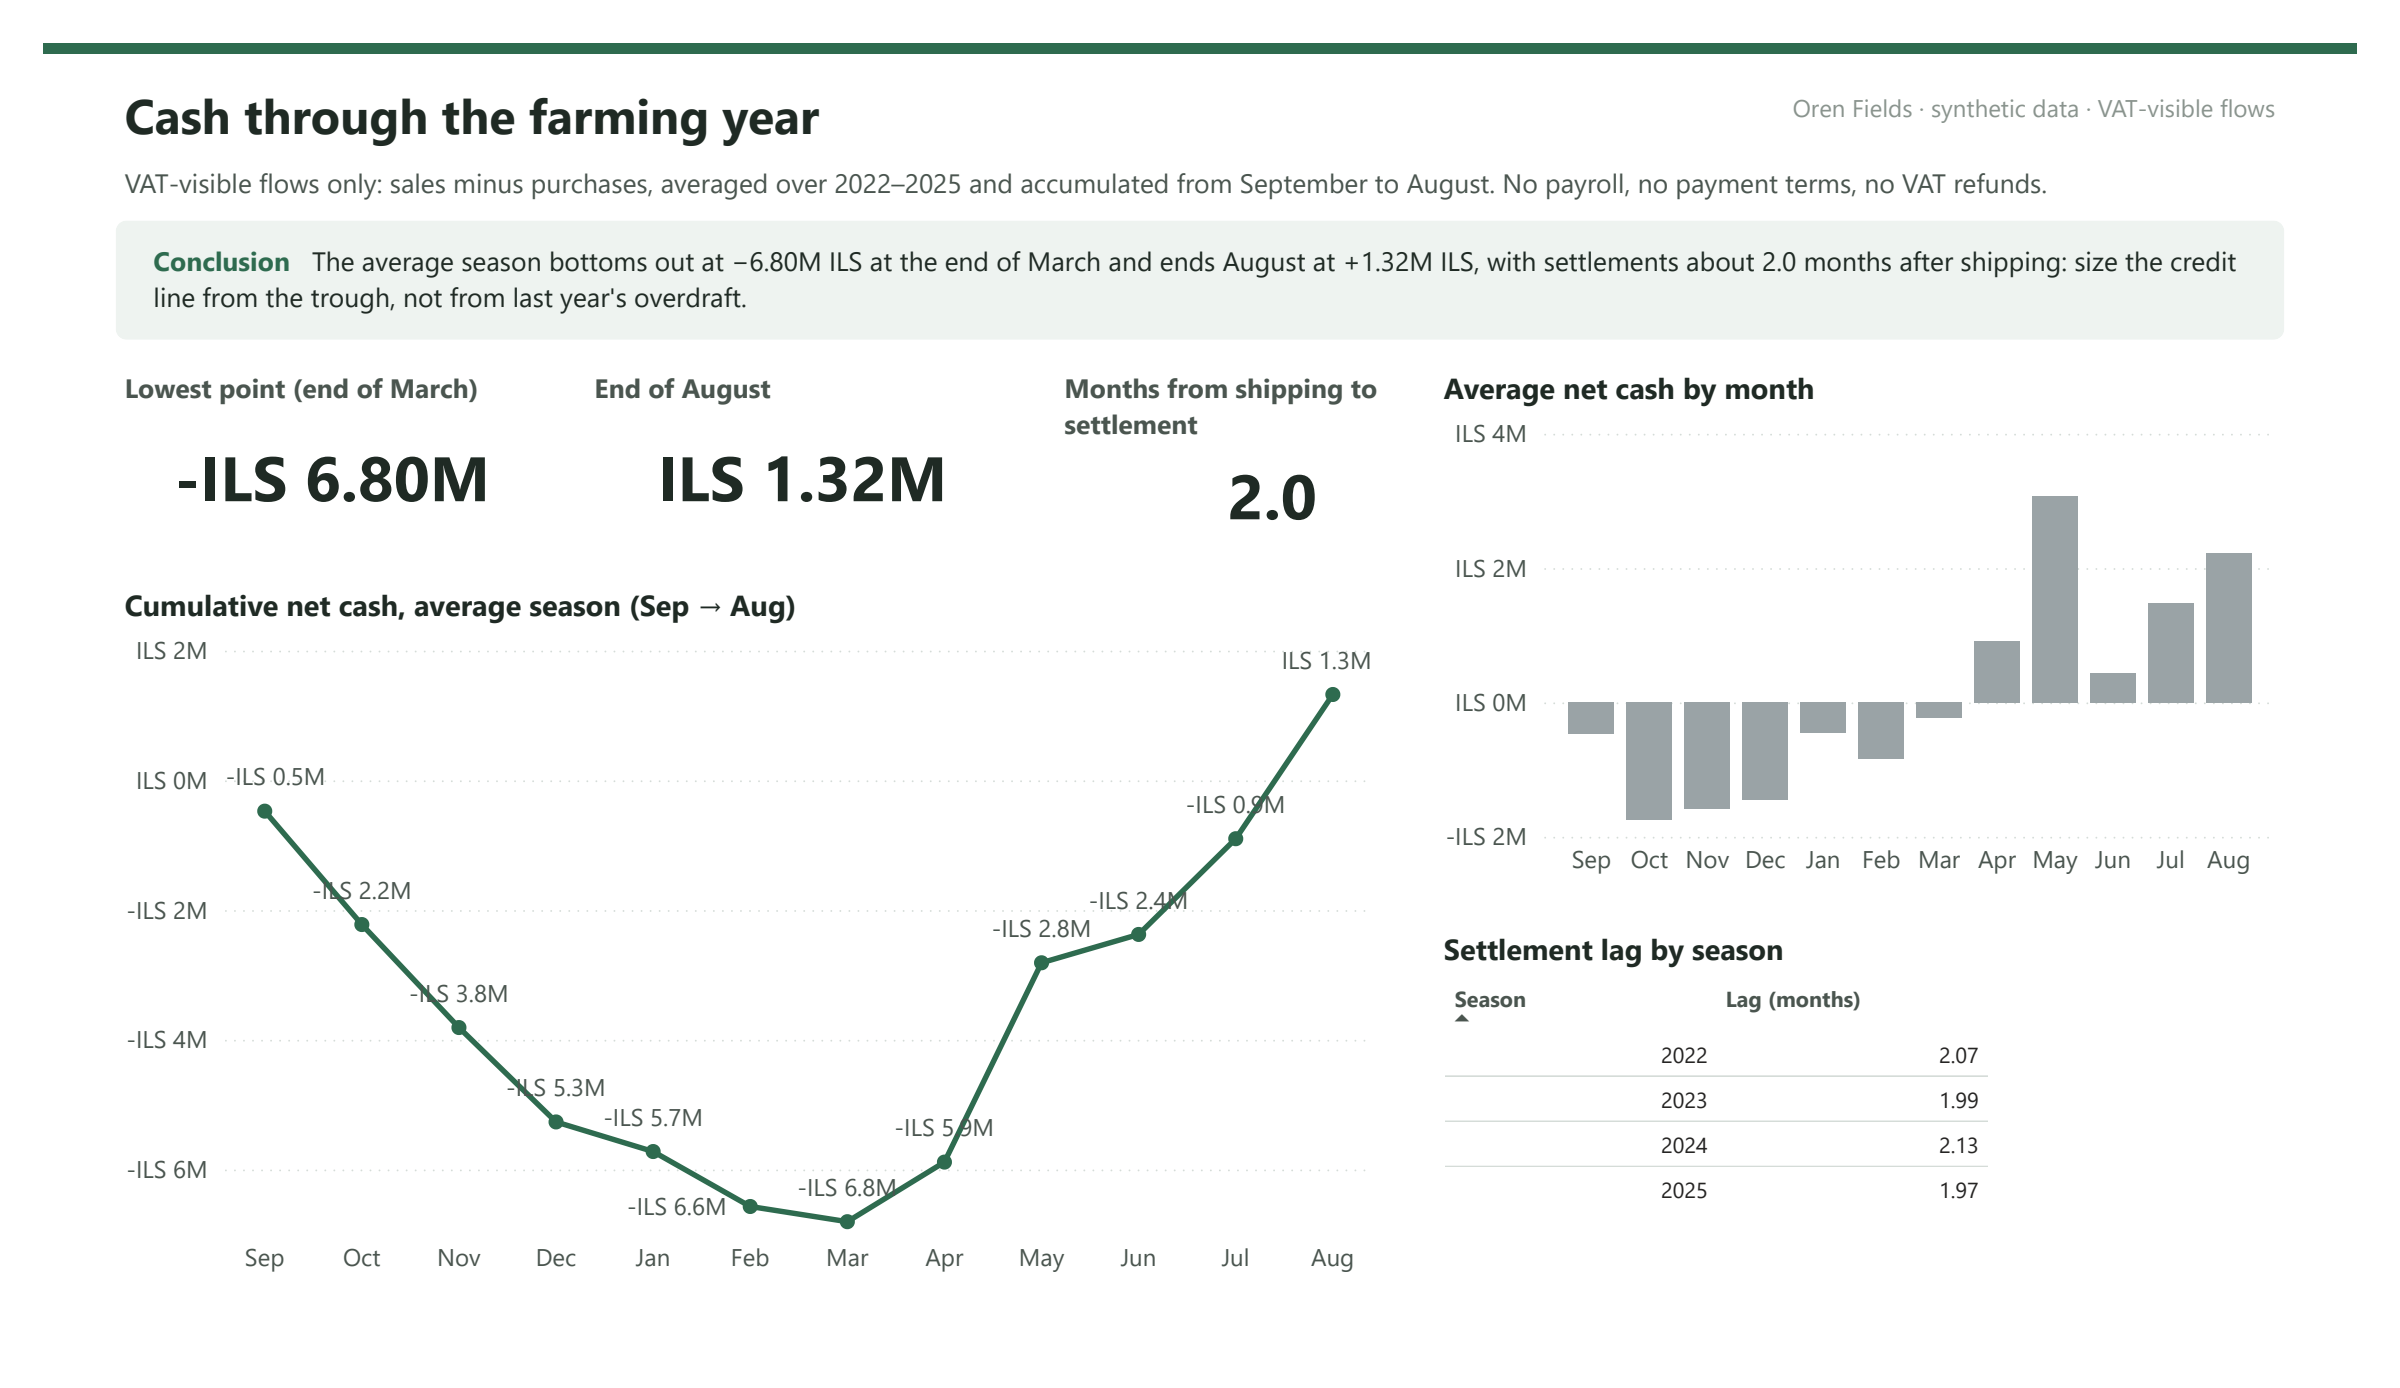

The page's visual inventory and layout, read from the dashboard file:
{"tool":"powerbi","page":{"name":"Cash through the year","canvas":[1280,720],"ordinal":2},"visuals":[{"type":"shape","box":[0,0,1280,6],"z":0},{"type":"textbox","box":[40,16,820,48],"z":1},{"type":"textbox","box":[860,22,380,34],"z":1},{"type":"textbox","box":[40,62,1200,34],"z":1},{"type":"shape","box":[40,98,1200,66],"z":1},{"type":"textbox","box":[56,105,1168,56],"z":2},{"type":"card","title":"Lowest point (end of March)","fields":{"Values":["_Measures.Cash trough ILS"]},"box":[40,180,240,100],"z":2},{"type":"card","title":"End of August","fields":{"Values":["_Measures.Year-end cash ILS"]},"box":[300,180,240,100],"z":2},{"type":"card","title":"Months from shipping to settlement","fields":{"Values":["_Measures.Settlement lag months"]},"box":[560,180,240,100],"z":2},{"type":"clusteredColumnChart","title":"Average net cash by month","fields":{"Category":["dim_date.month_name"],"Y":["_Measures.Avg net cash ILS"]},"box":[770,180,470,290],"z":2},{"type":"lineChart","title":"Cumulative net cash, average season (Sep → Aug)","fields":{"Category":["dim_date.month_name"],"Y":["_Measures.Cumulative cash ILS"]},"box":[40,300,700,390],"z":2},{"type":"tableEx","title":"Settlement lag by season","fields":{"Values":["mart_settlement_lag.season","mart_settlement_lag.lag_months"]},"box":[770,490,470,200],"z":2}]}

Visuals, with their boxes in screenshot pixels (x1, y1, x2, y2), scaled from the page's 1280x720 canvas onto the 2400x1388 screenshot:
shape: pyautogui.locateOnScreen(0, 0, 2399, 12)
textbox: pyautogui.locateOnScreen(75, 31, 1612, 123)
textbox: pyautogui.locateOnScreen(1612, 42, 2325, 108)
textbox: pyautogui.locateOnScreen(75, 120, 2325, 185)
shape: pyautogui.locateOnScreen(75, 189, 2325, 316)
textbox: pyautogui.locateOnScreen(105, 202, 2295, 310)
"Lowest point (end of March)" card: pyautogui.locateOnScreen(75, 347, 525, 540)
"End of August" card: pyautogui.locateOnScreen(562, 347, 1012, 540)
"Months from shipping to settlement" card: pyautogui.locateOnScreen(1050, 347, 1500, 540)
"Average net cash by month" clusteredColumnChart: pyautogui.locateOnScreen(1444, 347, 2325, 906)
"Cumulative net cash, average season (Sep → Aug)" lineChart: pyautogui.locateOnScreen(75, 578, 1388, 1330)
"Settlement lag by season" tableEx: pyautogui.locateOnScreen(1444, 945, 2325, 1330)
